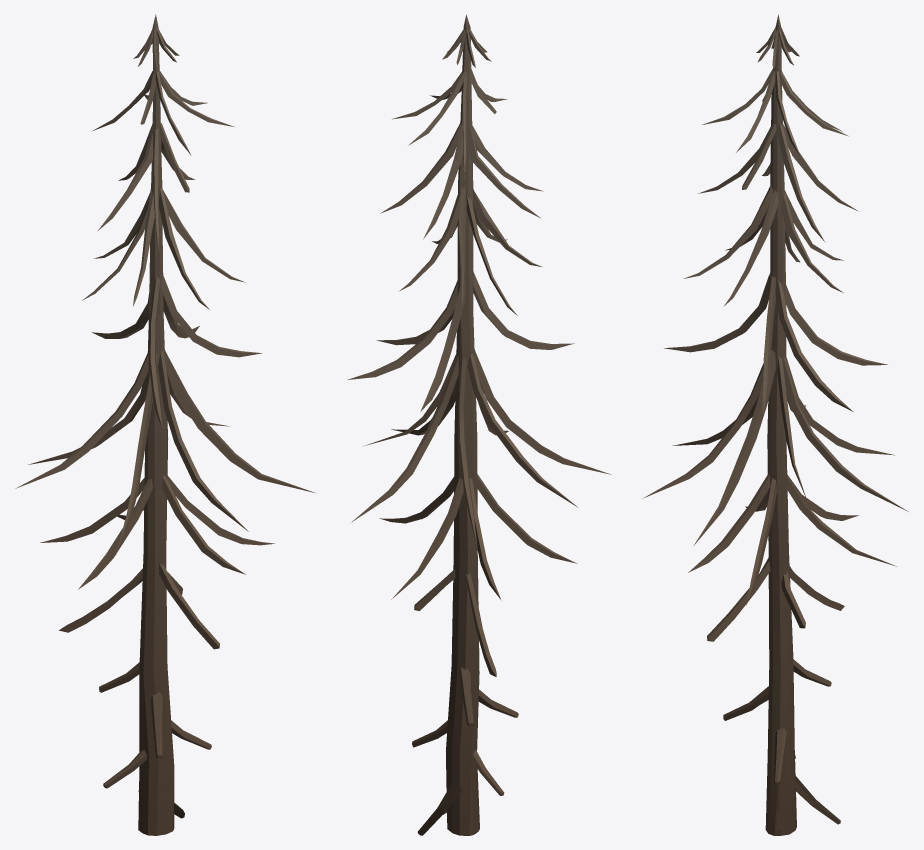
The model's file is PT_Pine_Tree_03_dead_cut.glb.
The picture shows the model from 3 angles, left to right: view 1: azimuth 30°, elevation 25°; view 2: azimuth 150°, elevation 25°; view 3: azimuth 270°, elevation 25°; orthographic projection.
Visible parts, largest first — view 1: PT_Pine_Tree_03_dead_cut; view 2: PT_Pine_Tree_03_dead_cut; view 3: PT_Pine_Tree_03_dead_cut.
Part boxes in pixels (box(x1,y1,x2,y2)): PT_Pine_Tree_03_dead_cut: box(15, 14, 314, 835); PT_Pine_Tree_03_dead_cut: box(347, 14, 611, 835); PT_Pine_Tree_03_dead_cut: box(642, 14, 908, 835).
Bounding box in the file's own units: 2.49 × 7.88 × 2.35.
1 material, 1 textured.
